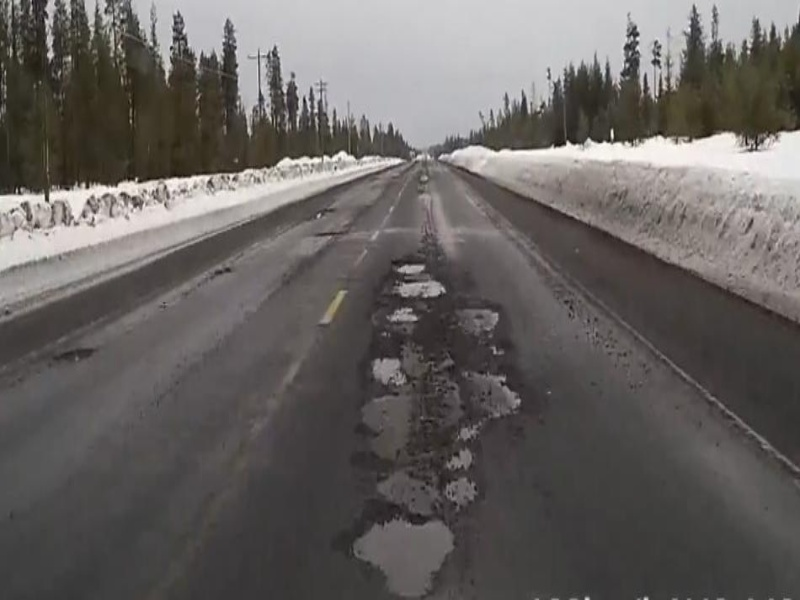pothole: (344, 514, 460, 599), (362, 349, 413, 395), (433, 473, 484, 506), (389, 277, 450, 302), (437, 441, 483, 473), (367, 303, 419, 327), (386, 256, 428, 277)
